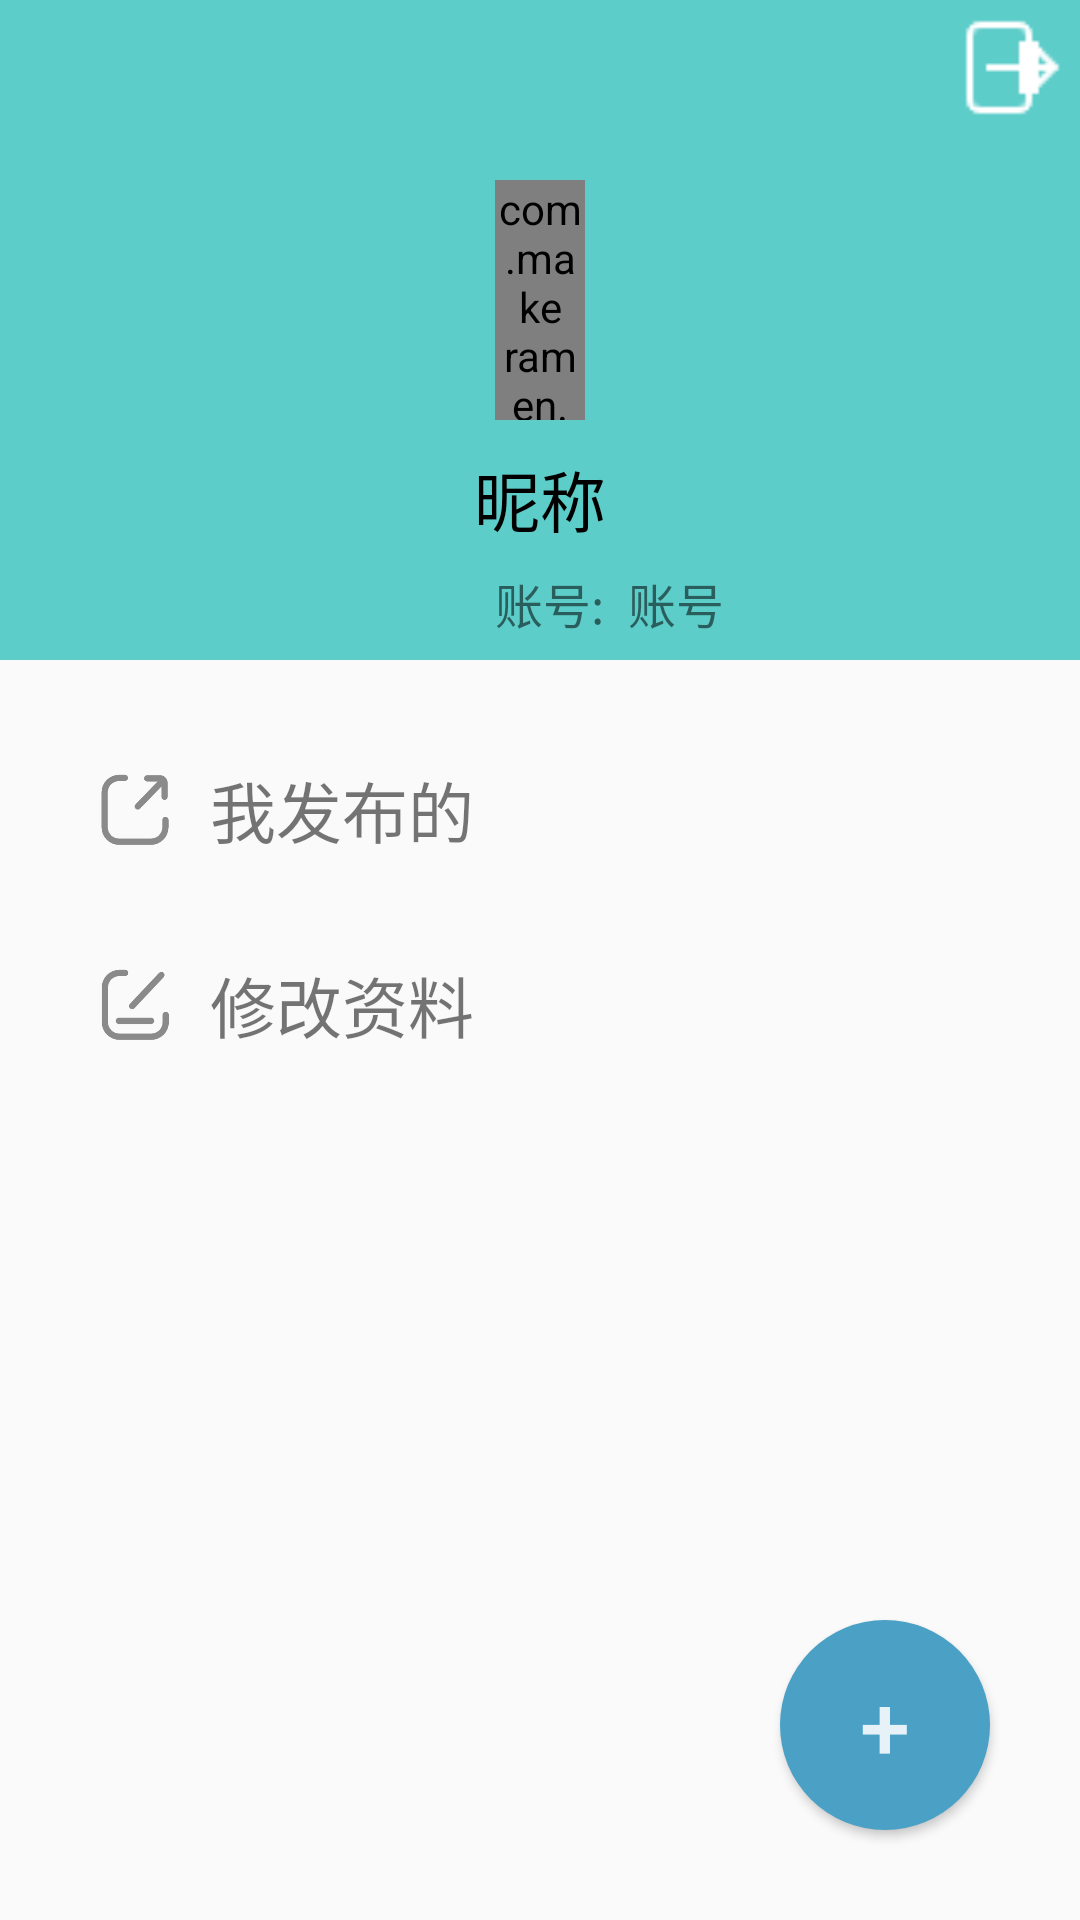

Where icons sit on this 1080 × 1920 app screen, as (x1, y1, x2, y2):
exit: (965, 20, 1060, 115)
me share: (101, 775, 169, 845)
